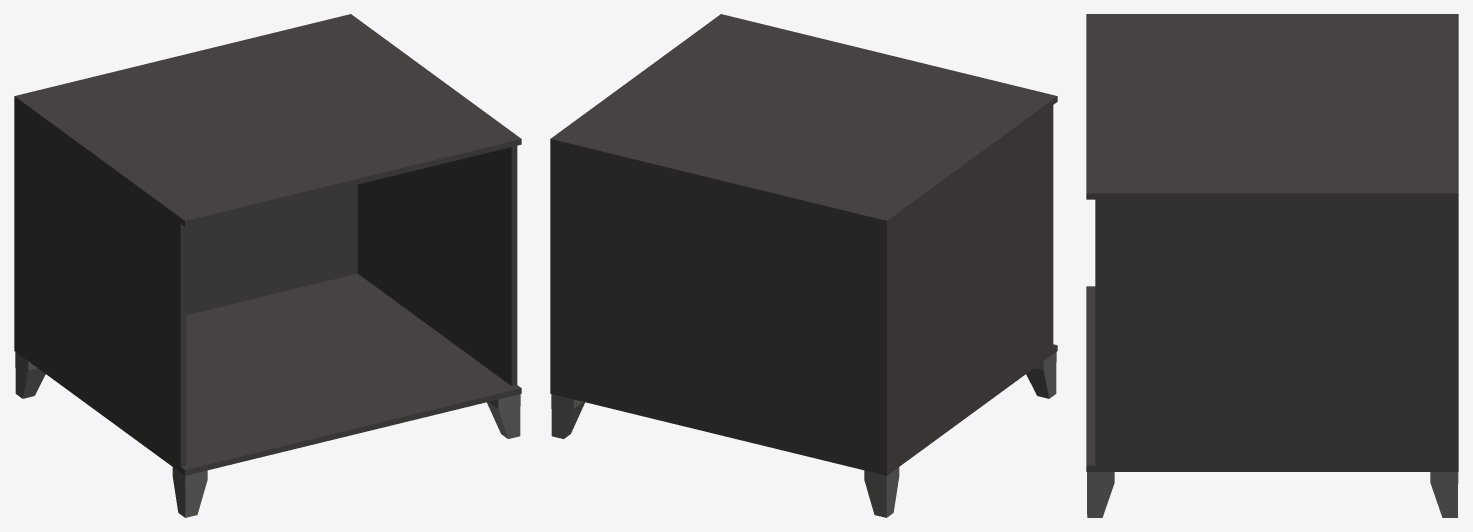
The model's file is Cupboard_17_01.fbx.
3 renders of one model, left to right at view 1: azimuth 30°, elevation 25°; view 2: azimuth 150°, elevation 25°; view 3: azimuth 270°, elevation 25°, orthographic. The views are drawn at different scales.
Parts seen in each view (by area): view 1: Cupboard_17_01; view 2: Cupboard_17_01; view 3: Cupboard_17_01.
Boxes of the visible parts, bbox=[...] form: Cupboard_17_01: bbox=[14, 14, 521, 517]; Cupboard_17_01: bbox=[550, 14, 1057, 517]; Cupboard_17_01: bbox=[1086, 14, 1458, 517].
Bounding box in the file's own units: 55.6 × 46.99 × 48.81.
